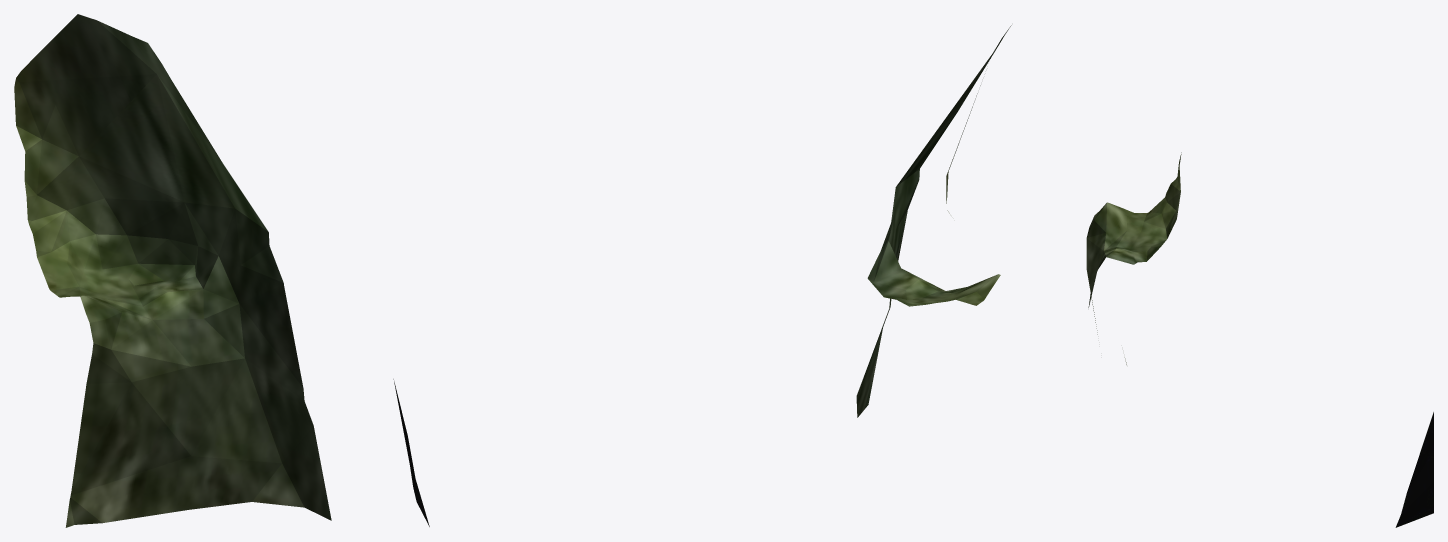
3 renders of one model, left to right at view 1: azimuth 30°, elevation 25°; view 2: azimuth 150°, elevation 25°; view 3: azimuth 270°, elevation 25°, orthographic. The views are drawn at different scales.
Bounding box in the file's own units: 2.95 × 2.95 × 2.95.
2 materials, 2 textured.
